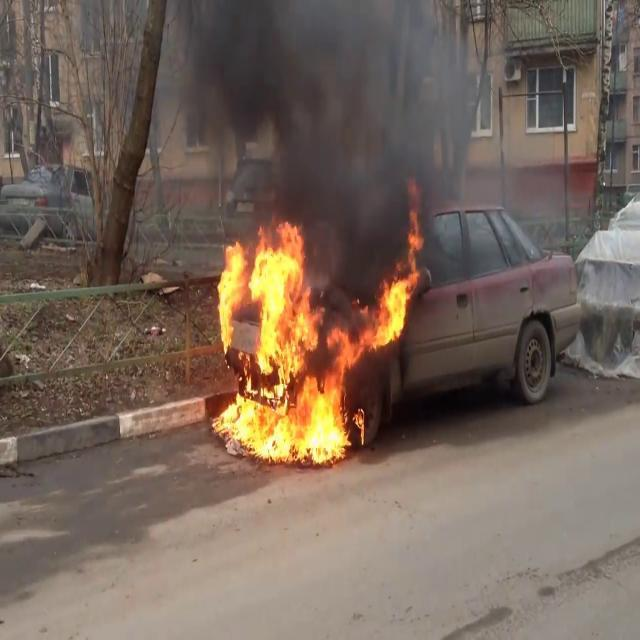Fire: (206, 220, 362, 470), (370, 212, 428, 354)
Smoke: (159, 0, 486, 252)
